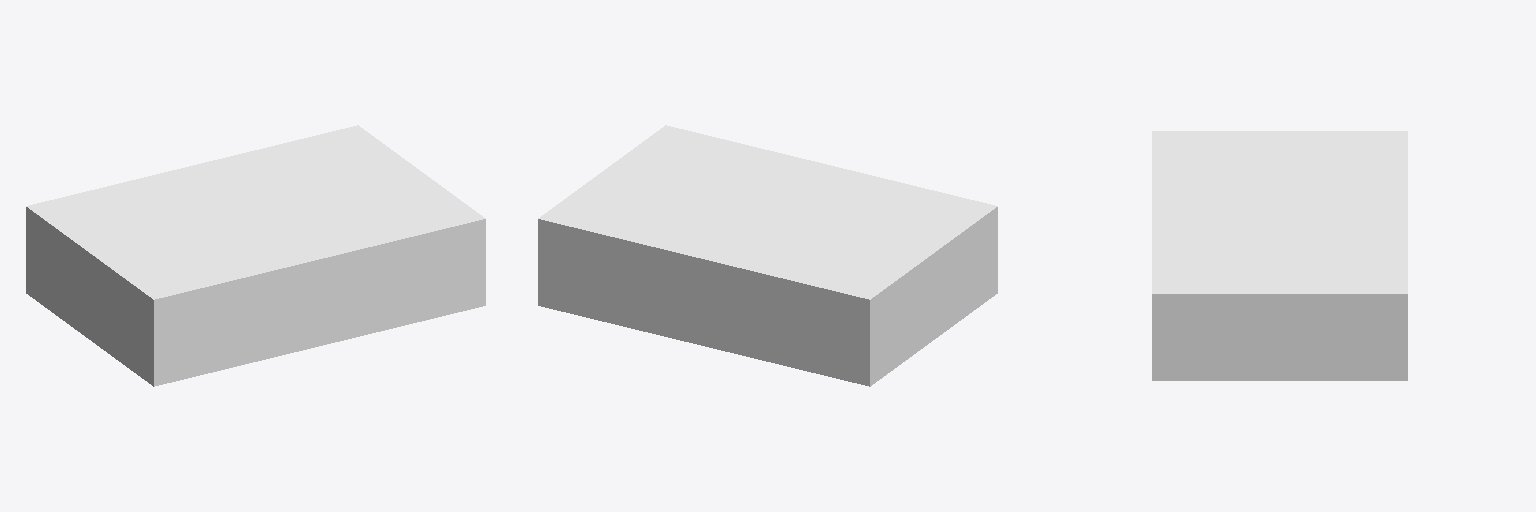
File: Gcereal.obj
3 views of the same model, side by side, from view 1: azimuth 30°, elevation 25°; view 2: azimuth 150°, elevation 25°; view 3: azimuth 270°, elevation 25° (orthographic).
Visible parts, largest first — view 1: object 1; view 2: object 1; view 3: object 1.
Boxes of the visible parts, x1=… form: object 1: x1=26, y1=125, x2=485, y2=386; object 1: x1=538, y1=125, x2=997, y2=386; object 1: x1=1152, y1=131, x2=1407, y2=380.
Bounding box in the file's own units: 1.2 × 0.3 × 0.8.